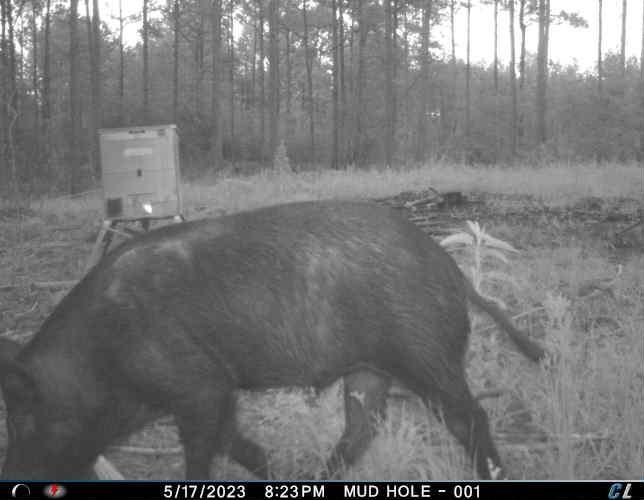Hog: (0, 199, 549, 481)
